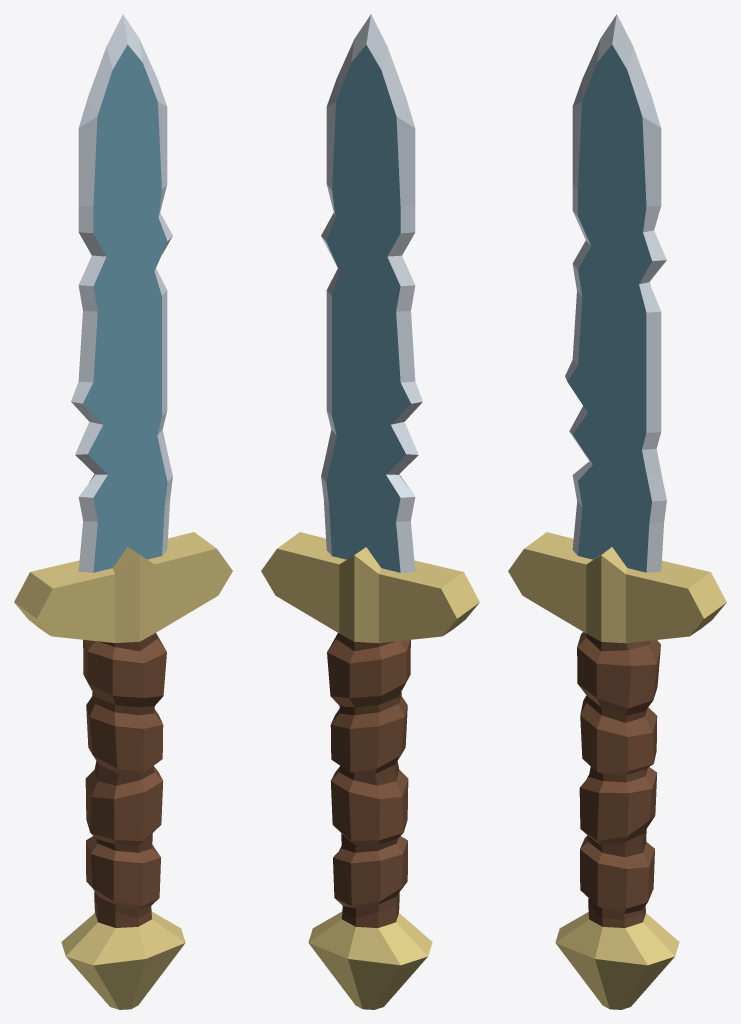
Rendered from damascus_knife.glb.
3 views of the same model, side by side, from view 1: azimuth 30°, elevation 25°; view 2: azimuth 150°, elevation 25°; view 3: azimuth 330°, elevation 25° (orthographic).
Parts seen in each view (by area): view 1: Dagger_2_Cylinder.011; view 2: Dagger_2_Cylinder.011; view 3: Dagger_2_Cylinder.011.
Part boxes in pixels (x1,y1,x2,y2): Dagger_2_Cylinder.011: (14, 14, 232, 1009); Dagger_2_Cylinder.011: (261, 14, 479, 1009); Dagger_2_Cylinder.011: (508, 14, 726, 1009).
Bounding box in the file's own units: 0.6441 × 3.11 × 0.2563.
1 material, 1 textured.
